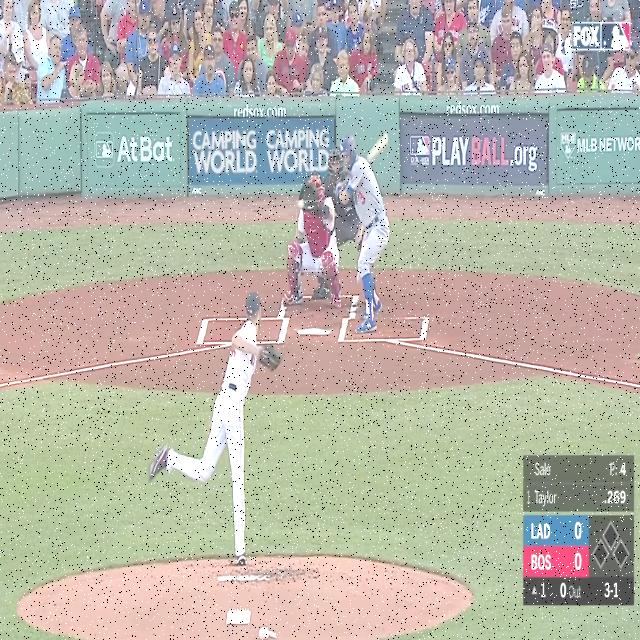baseball: (298, 199, 304, 209)
